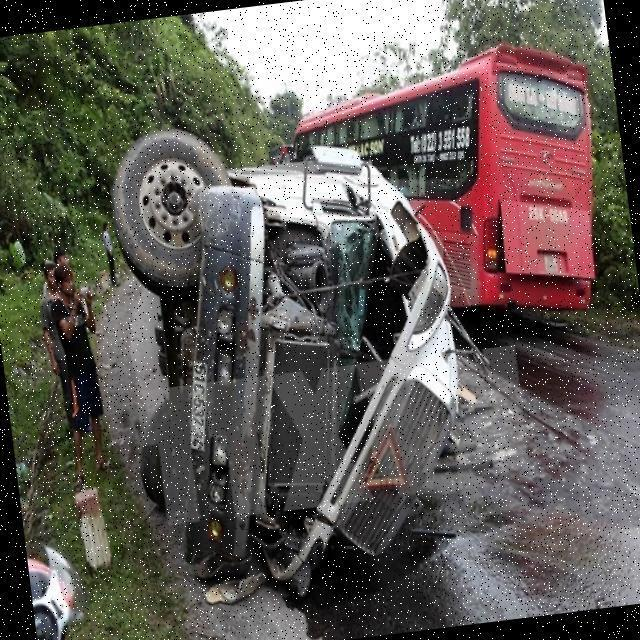accident: (77, 57, 519, 633)
